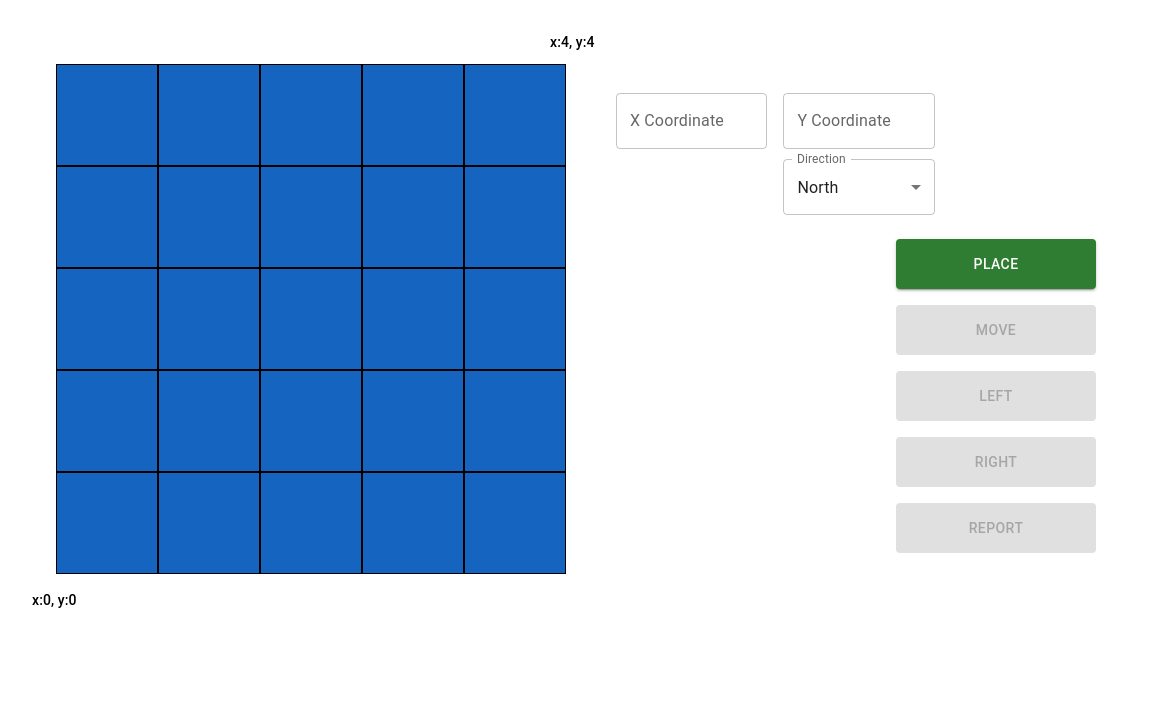
Test case: renders Grid › show error message when robot has no x coordinates
Type "0" into the number field labelled "Y Coordinate". click: (859, 121)
box: [783, 93, 935, 149]
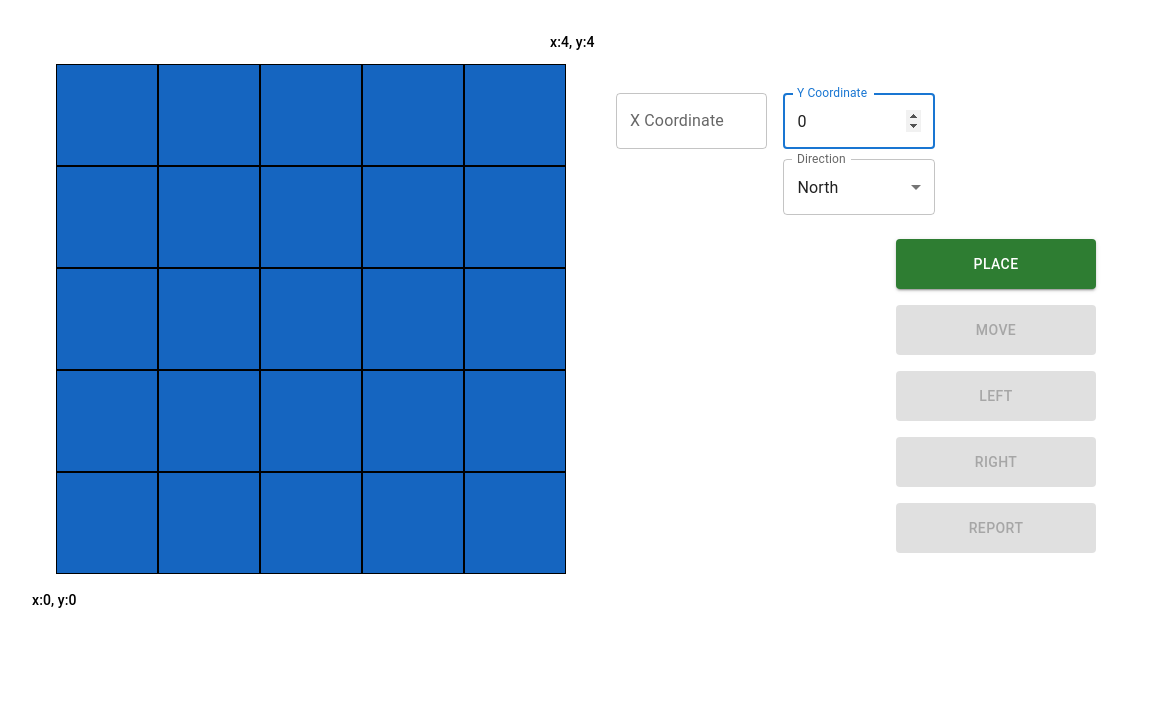
Click the button "PLACE". click: (996, 264)
box: [896, 239, 1096, 289]
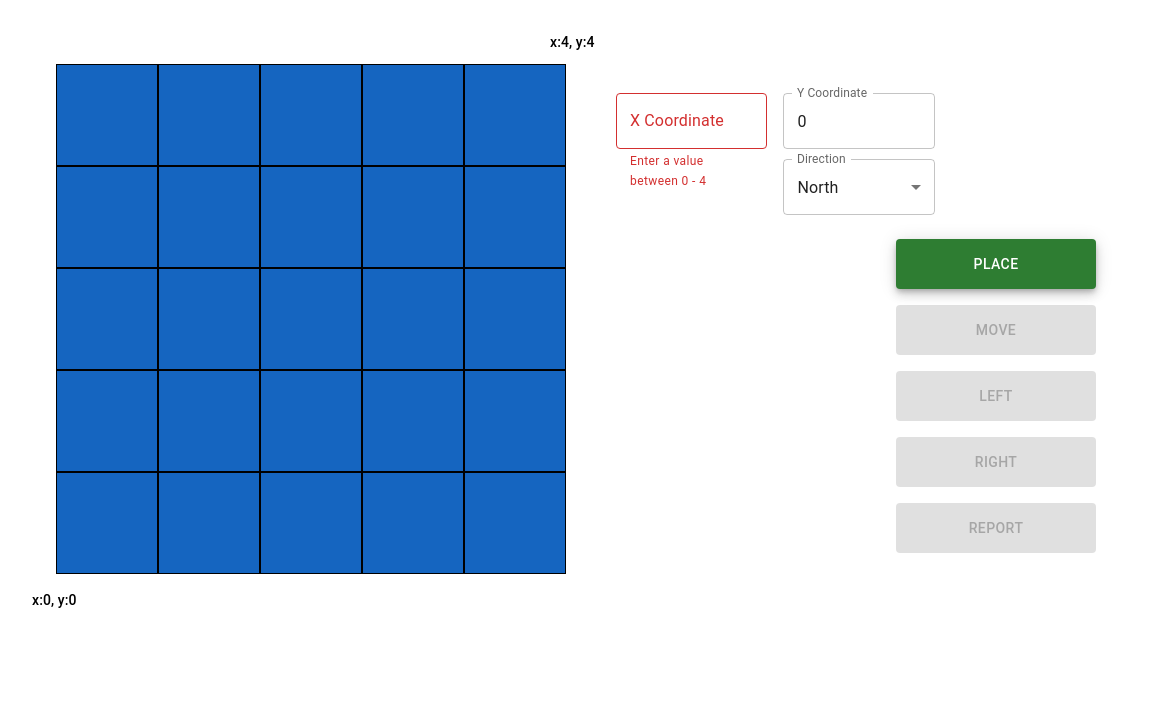
Expected: the text "Enter a value between 0 - 4" is shown, [630, 154, 706, 188]
